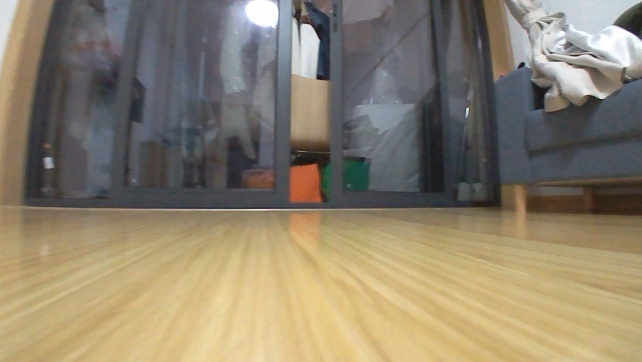sofa1: (490, 61, 641, 216)
